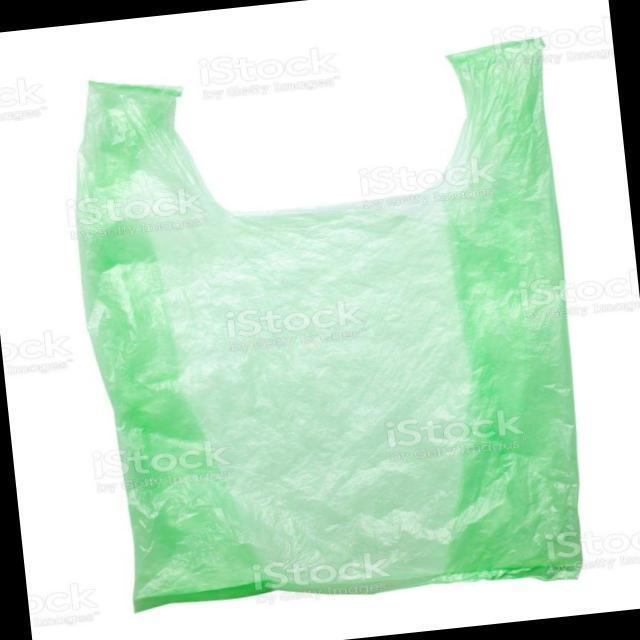Plastic_Bag: (58, 36, 584, 632)
